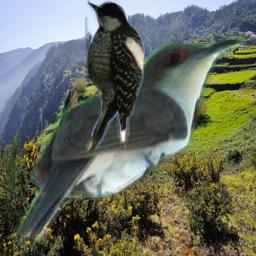Cuckoo: (13, 36, 247, 246)
Woodpecker: (85, 0, 145, 153)
